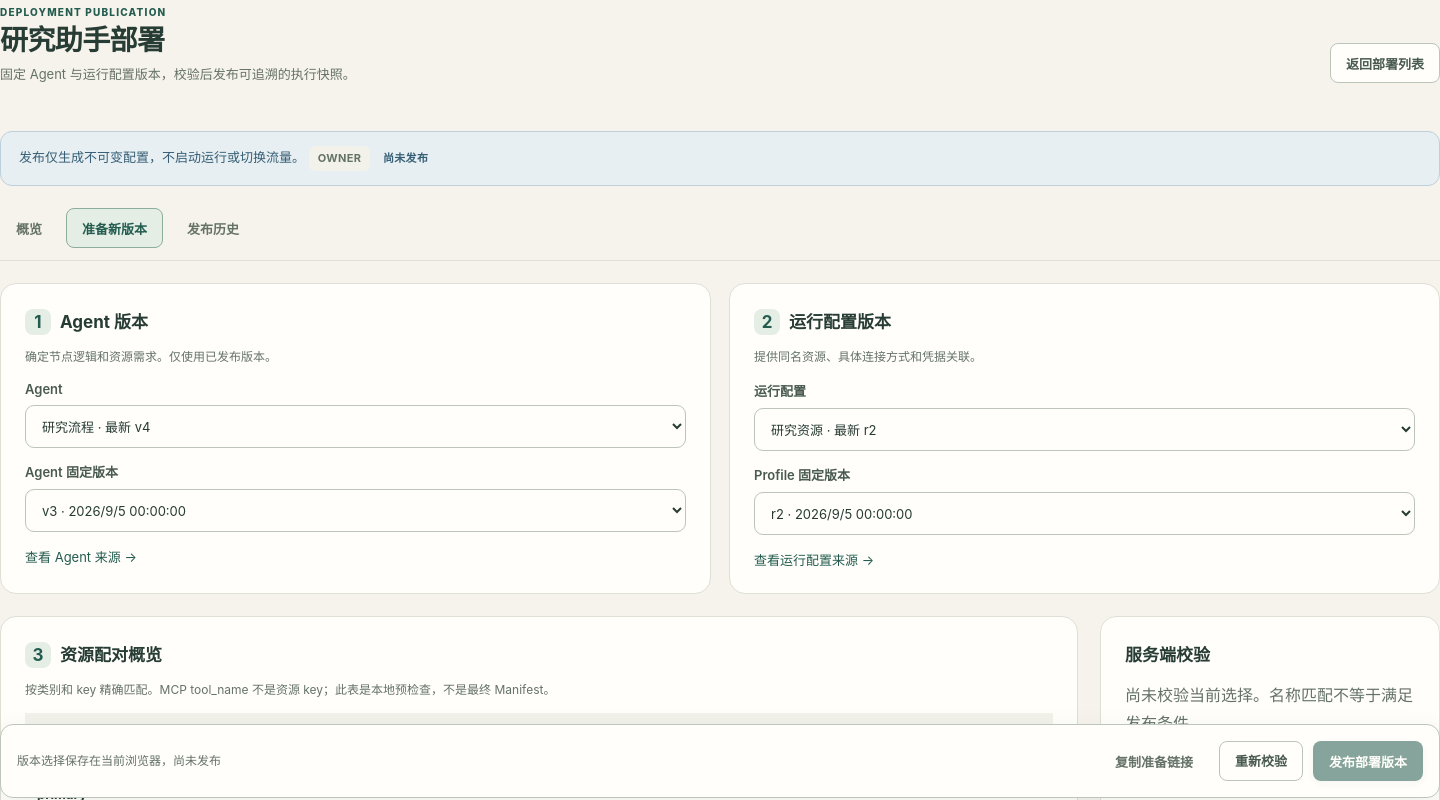
Deployment publication workspace › allows a warning-only report but invalidates it on source selection change
Expected: the heading "研究助手部署" is shown, [0, 23, 164, 57]
Click the button "重新校验".
click(1261, 761)  # box [1219, 741, 1303, 781]
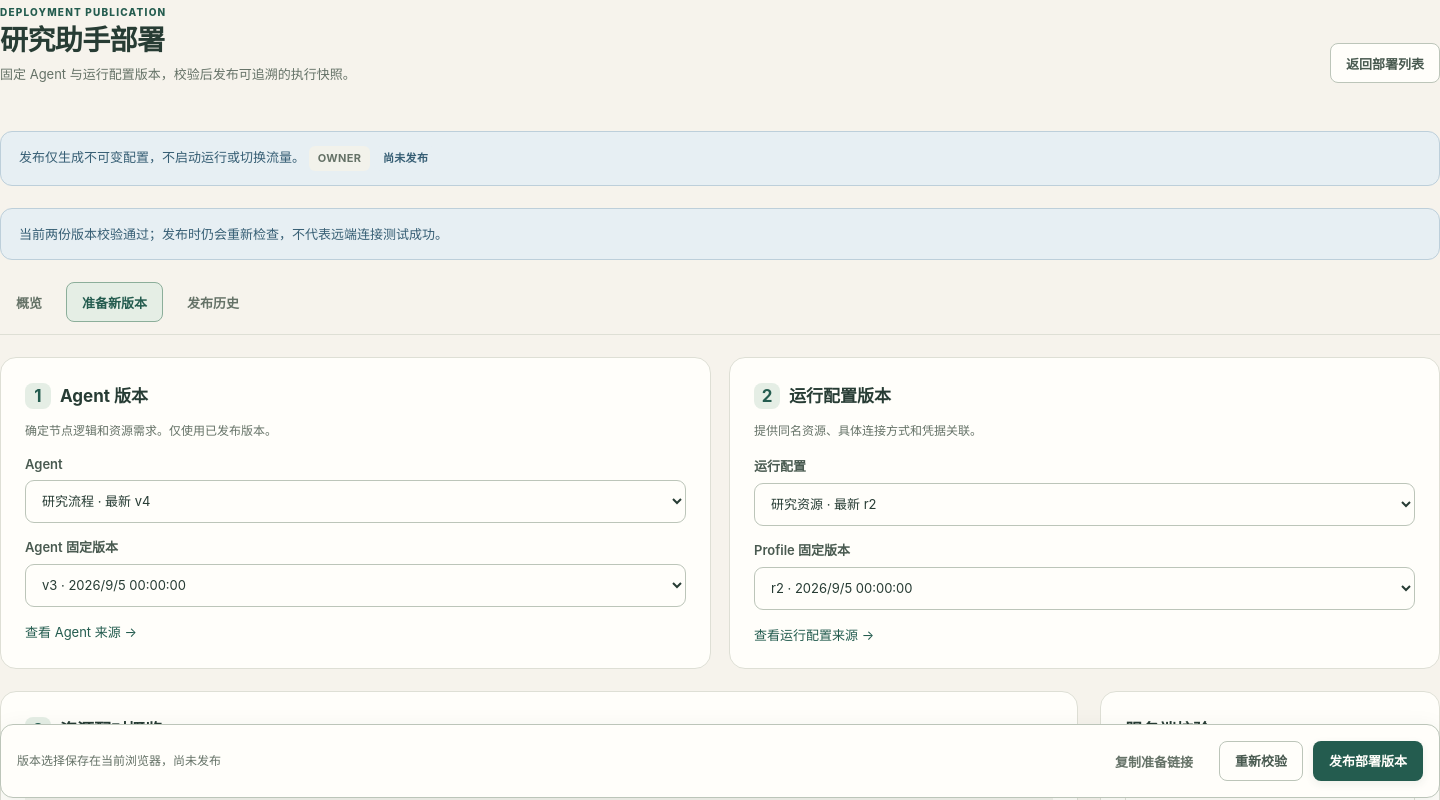
Expected: the button "发布部署版本" is enabled, [1313, 741, 1423, 781]
Select "v4 · 2026/9/5 00:00:00" in the dropdown labelled "Agent 固定版本" at (356, 585), box [25, 564, 686, 606]
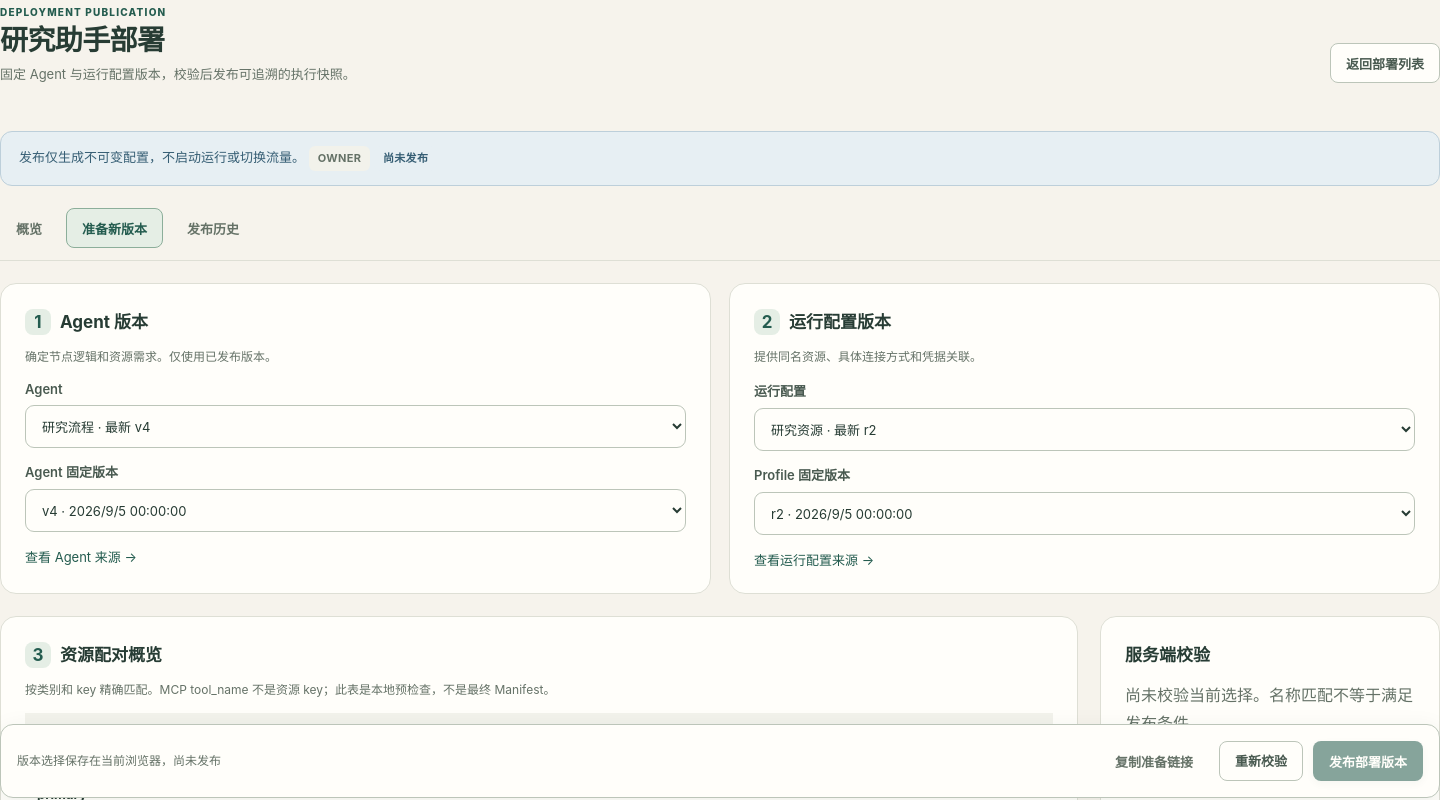
Expected: the text "校验通过 ·" is not shown
Expected: the button "发布部署版本" is disabled, [1313, 741, 1423, 781]
